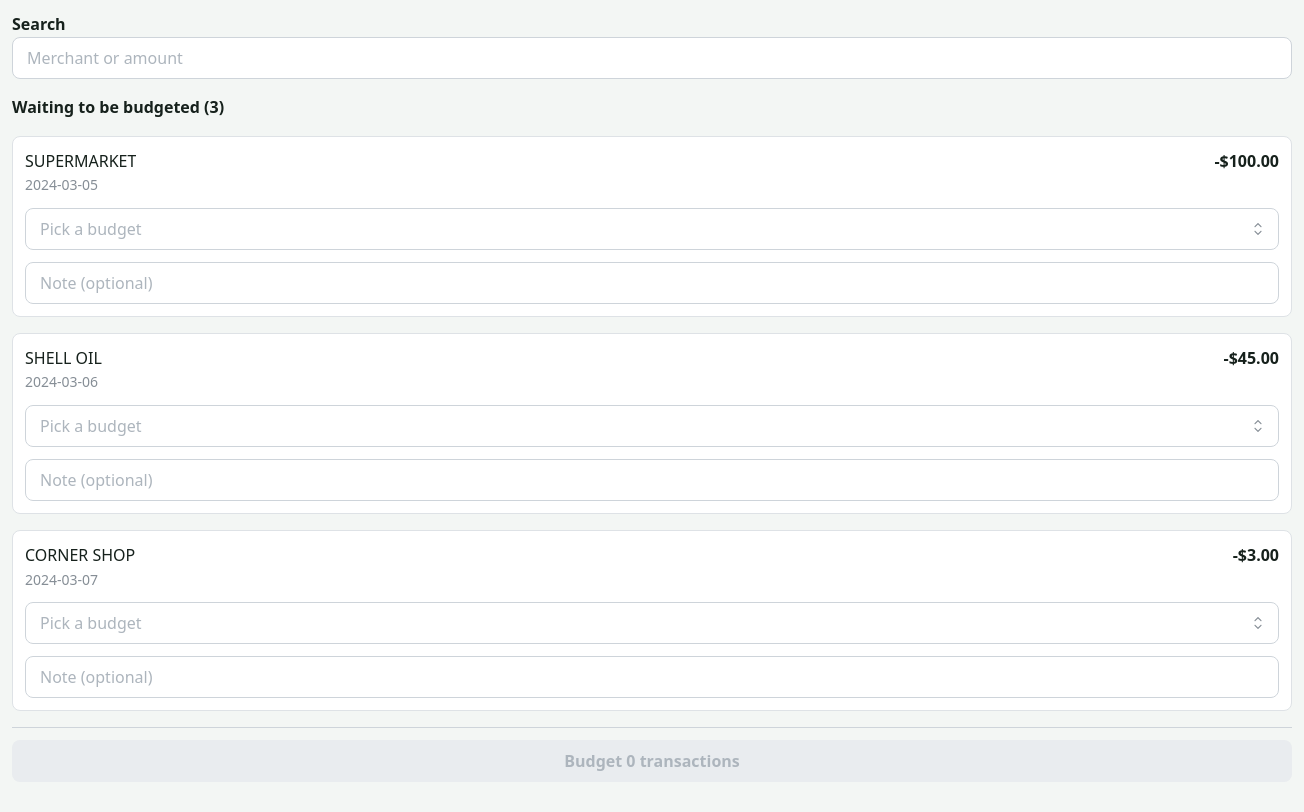
it: LinkView › will not save until a budget has been picked
Check: the button "Budget 0 transactions" is disabled, box x1=12 y1=740 x2=1292 y2=782
Click the dropdown with placeholder "Pick a budget" below "2024-03-07". click: point(652, 623)
box: x1=25 y1=602 x2=1279 y2=644
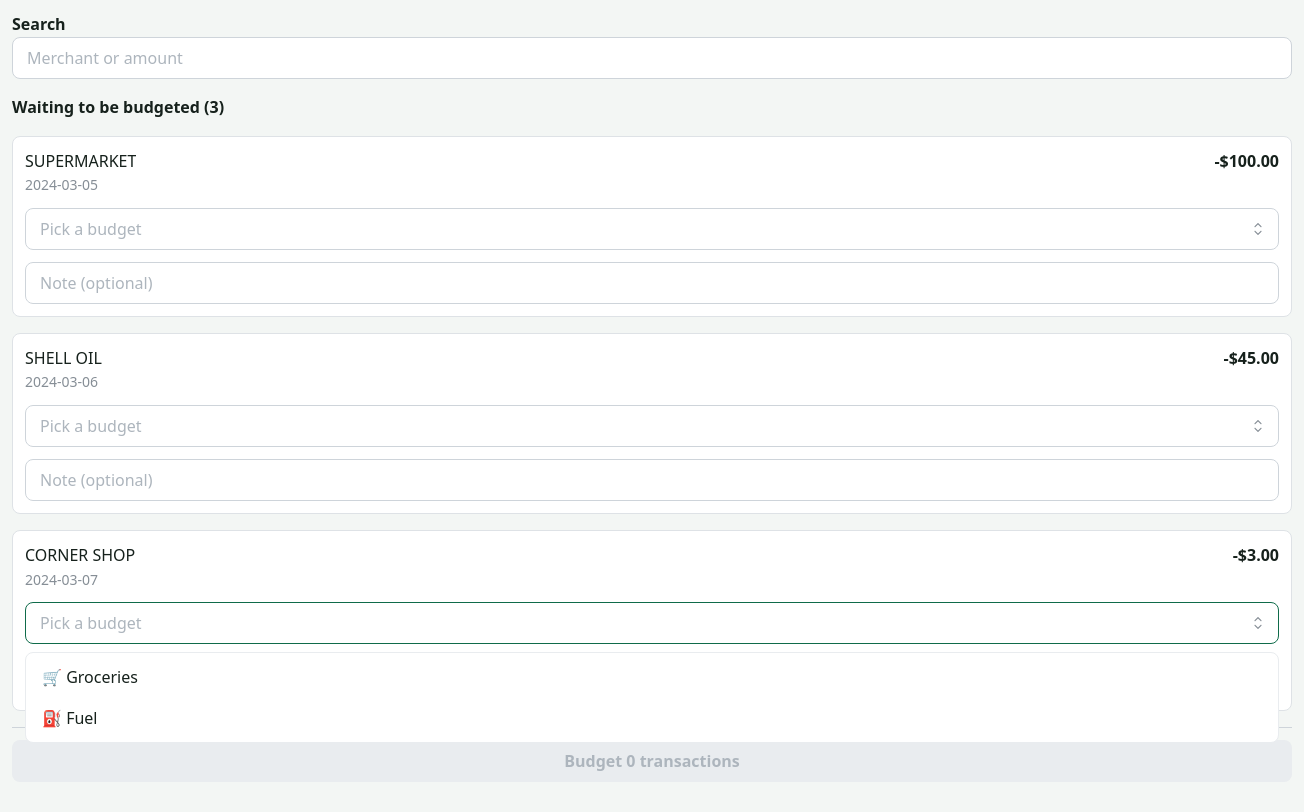
Click the option "🛒 Groceries". click: point(90, 677)
box: x1=42 y1=666 x2=138 y2=688
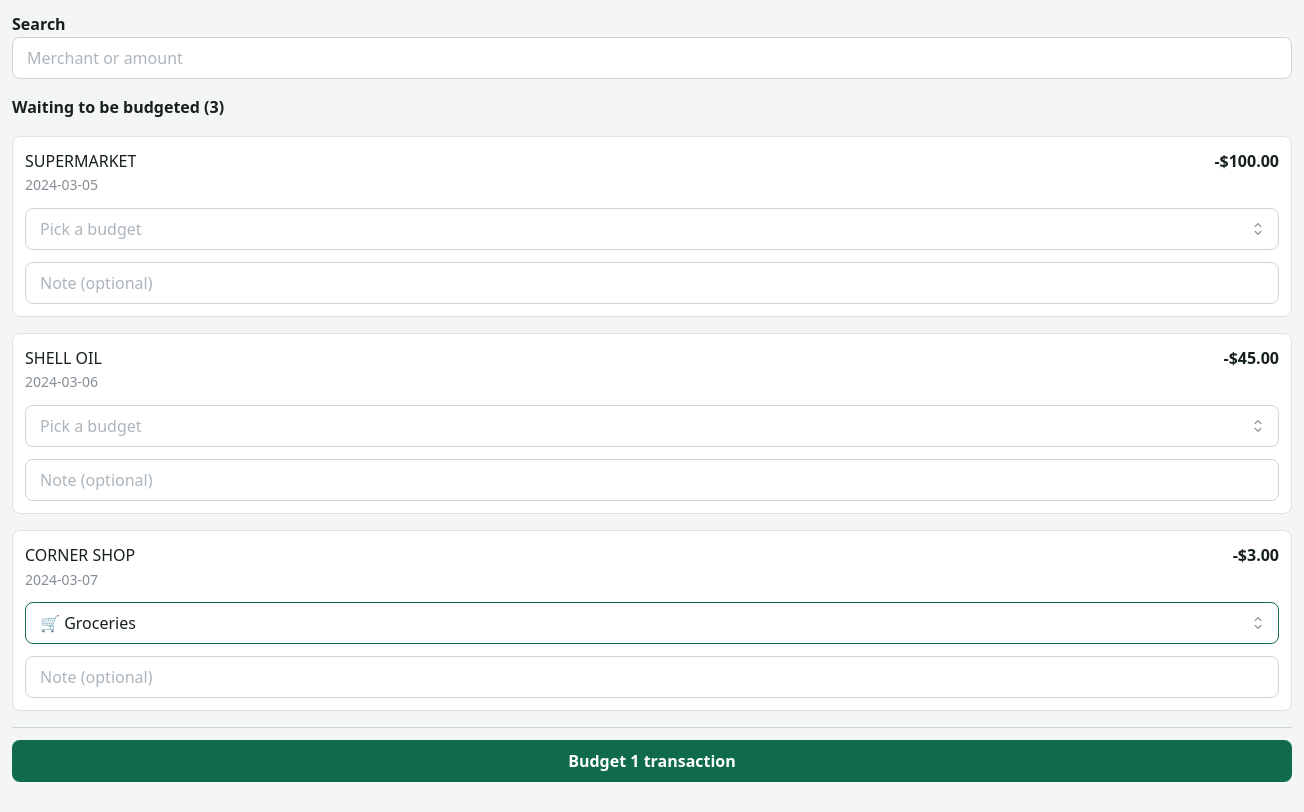
Check: the button "Budget 1 transaction" is enabled, box x1=12 y1=740 x2=1292 y2=782
